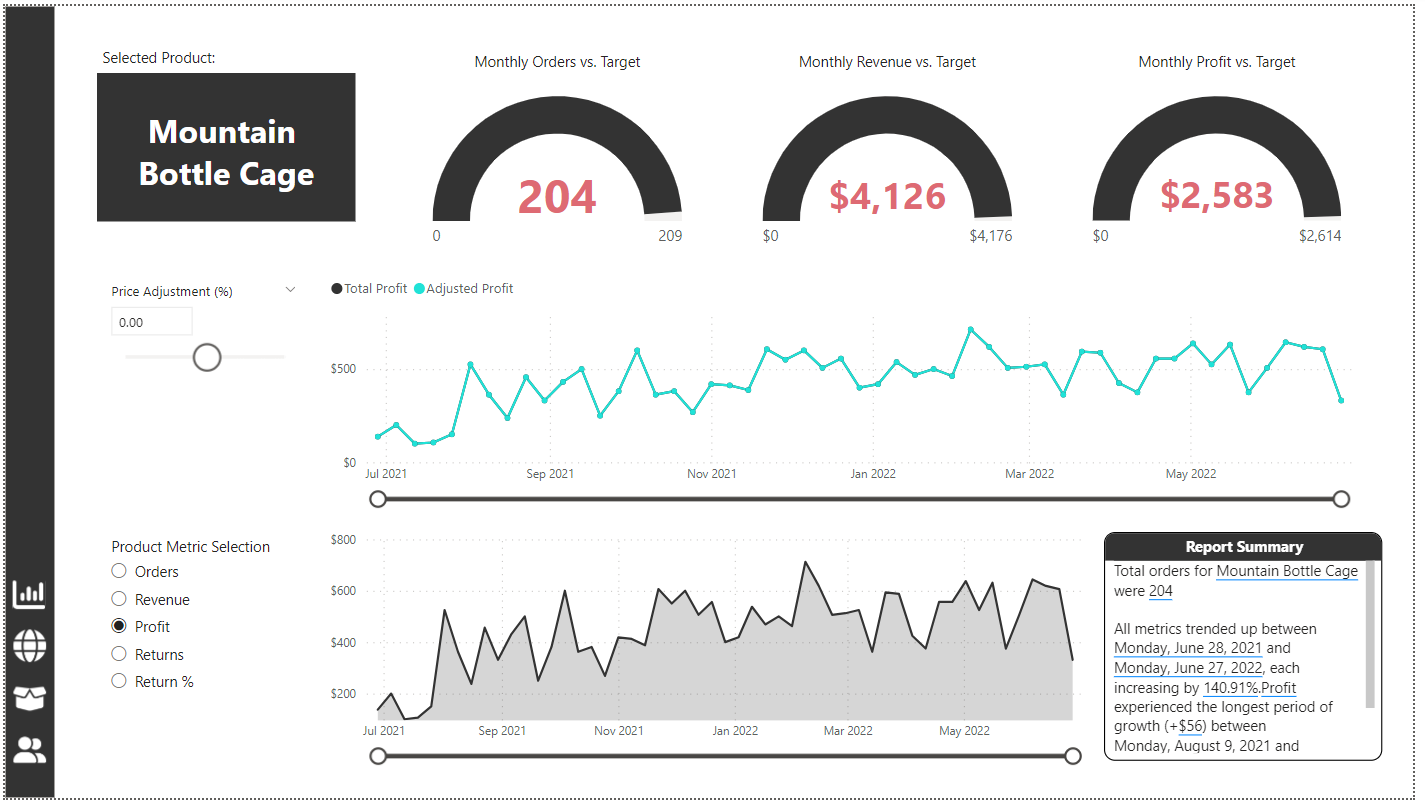

The dashboard page shown, as its layout file describes it:
{"tool":"powerbi","page":{"name":"Product Detail","canvas":[1280,720],"ordinal":2},"visuals":[{"type":"shape","box":[0,0,45,720],"z":0},{"type":"actionButton","box":[2.5,516.7,45.6,37.8],"z":0,"group":"g1"},{"type":"gauge","title":"Monthly Orders vs. Target","fields":{"Y":["Measure Table.Total Orders"],"MaxValue":["Measure Table.Order Target"]},"box":[383.7,41.5,236.9,203.7],"z":1000},{"type":"actionButton","box":[3.3,563.4,45.6,37.8],"z":1000,"group":"g1"},{"type":"gauge","title":"Monthly Revenue vs. Target","fields":{"Y":["Measure Table.Total Revenue"],"MaxValue":["Measure Table.Revenue Target"]},"box":[683.5,41.5,236.9,203.7],"z":2000},{"type":"actionButton","box":[3.3,611.1,45.6,37.8],"z":2000,"group":"g1"},{"type":"gauge","title":"Monthly Profit vs. Target","fields":{"Y":["Measure Table.Total Profit"],"MaxValue":["Measure Table.Profit Target"]},"box":[983.4,41.8,236.2,203.5],"z":3000},{"type":"actionButton","box":[3.3,657.8,45.6,37.8],"z":3000,"group":"g1"},{"type":"lineChart","title":"Profit Trending","fields":{"Category":["Calendar Lookup.Date Hierarchy.Year","Calendar Lookup.Date Hierarchy.Start of Month","Calendar Lookup.Date Hierarchy.Start of Week","Calendar Lookup.Date Hierarchy.Date"],"Y":["Measure Table.Total Profit","Measure Table.Adjusted Profit"]},"box":[290.5,237.4,952.8,221.5],"z":4000},{"type":"areaChart","title":"Return Trending","fields":{"Y":["Measure Table.Total Profit"],"Category":["Calendar Lookup.Date Hierarchy.Year","Calendar Lookup.Date Hierarchy.Start of Month","Calendar Lookup.Date Hierarchy.Start of Week","Calendar Lookup.Date Hierarchy.Date"]},"box":[290.5,471.3,708.7,221.5],"z":5000},{"type":"card","fields":{"Values":["Min(Product Lookup.ProductName)"]},"box":[83.6,61,235.1,134.5],"z":6000},{"type":"textbox","box":[83.6,32.8,136.8,36.2],"z":7000},{"type":"group","id":"g1","title":"Navigation Buttons","box":[2.5,516.7,46.4,178.9],"z":8000},{"type":"slicer","fields":{"Values":["Price Adjustment (%).Price Adjustment (%)"]},"box":[83.6,245.3,193.3,123.2],"z":9000},{"type":"slicer","fields":{"Values":["Product Metric Selection.Product Metric Selection"]},"box":[83.6,477,193.3,180.8],"z":10000},{"type":"textbox","title":"Report Summary","box":[999.2,478.1,253.2,208],"z":11000}]}

Visuals, with their boxes on the page's 1280x720 design canvas (x1, y1, x2, y2). These are canvas units, not pixel positions in the 1425x805 screenshot, which may show the page scaled, cropped or inside an application window:
shape: 0, 0, 45, 720
actionButton: 2, 517, 48, 554
"Monthly Orders vs. Target" gauge: 384, 42, 621, 245
actionButton: 3, 563, 49, 601
"Monthly Revenue vs. Target" gauge: 684, 42, 920, 245
actionButton: 3, 611, 49, 649
"Monthly Profit vs. Target" gauge: 983, 42, 1220, 245
actionButton: 3, 658, 49, 696
"Profit Trending" lineChart: 290, 237, 1243, 459
"Return Trending" areaChart: 290, 471, 999, 693
card - Min(Product Lookup.ProductName): 84, 61, 319, 196
textbox: 84, 33, 220, 69
"Navigation Buttons" group: 2, 517, 49, 696
slicer - Price Adjustment (%).Price Adjustment (%): 84, 245, 277, 368
slicer - Product Metric Selection.Product Metric Selection: 84, 477, 277, 658
"Report Summary" textbox: 999, 478, 1252, 686
